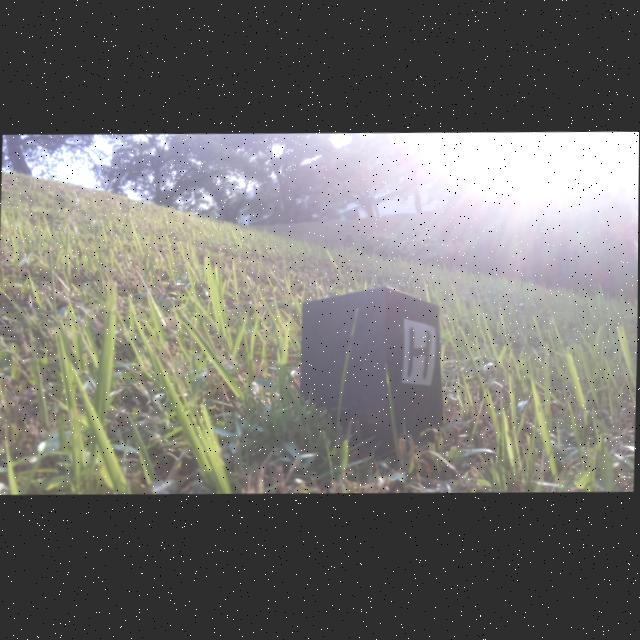H: (408, 329, 431, 380)
